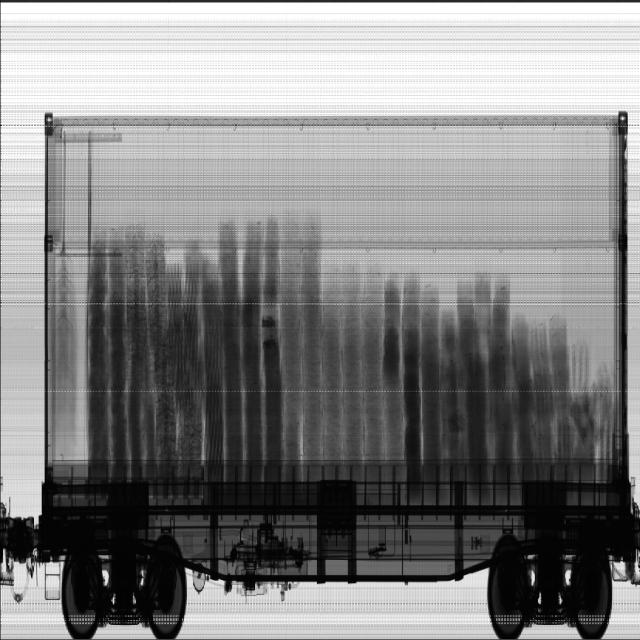clothes: (52, 255, 77, 446)
shoes: (127, 226, 203, 464)
textiles: (280, 222, 405, 458)
